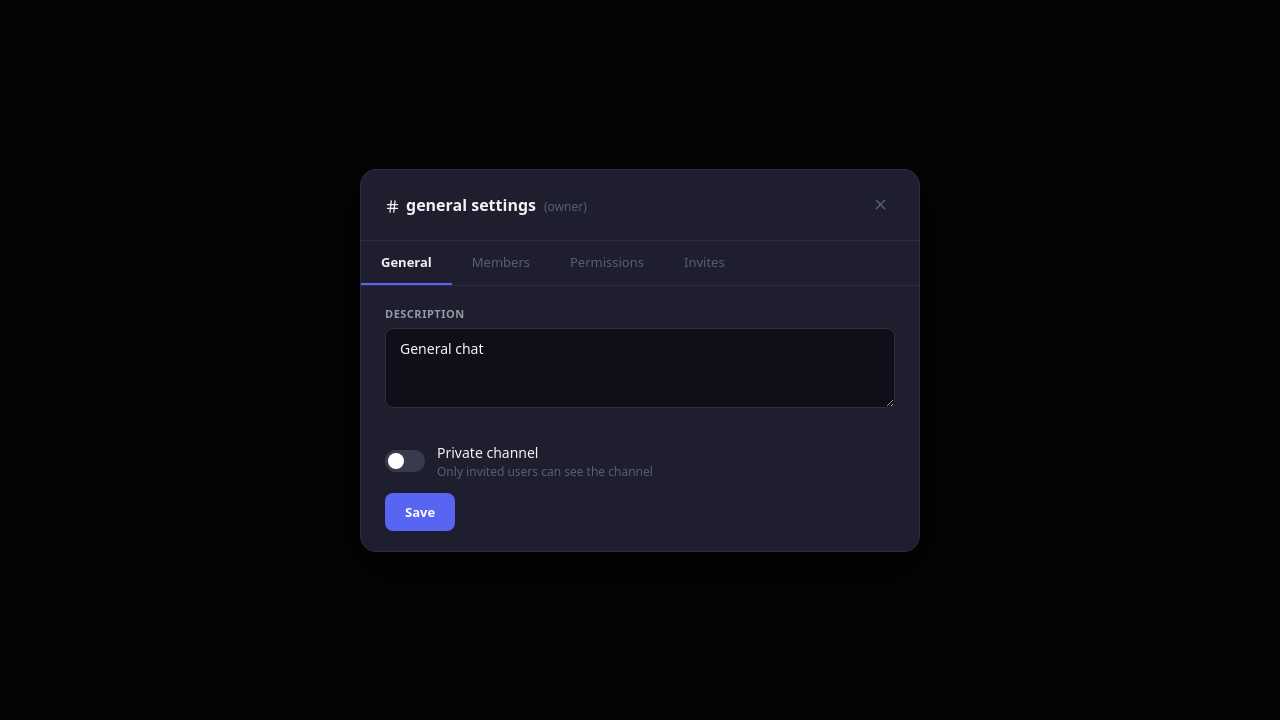
Test: tab switching › clicking Members tab shows member list
This screenshot has width=1280, height=720.
Click the button "Members". click: (501,262)
box: [452,240,550,284]
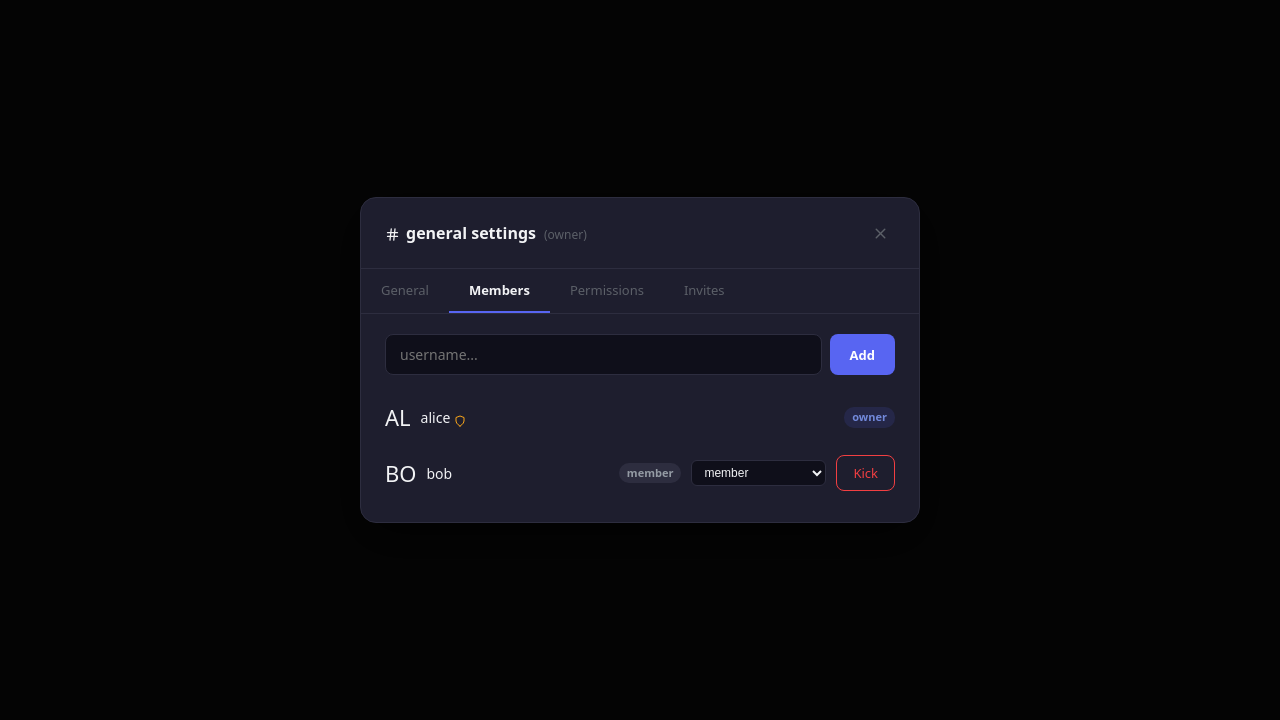
Result: the text "alice" is shown at [421,408,466,427]
Result: the text "bob" is shown at [426,464,452,482]
